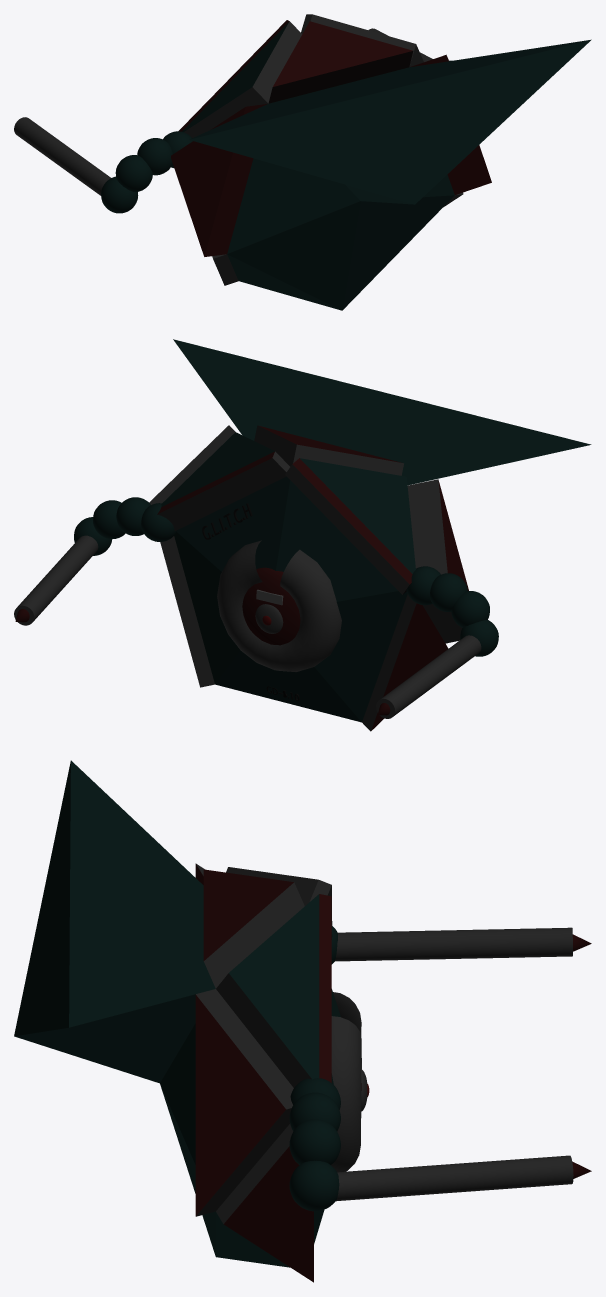
The model's file is EnemyVIPModel.fbx.
The picture shows the model from 3 angles, top to bottom: view 1: azimuth 30°, elevation 25°; view 2: azimuth 150°, elevation 25°; view 3: azimuth 270°, elevation 25°; orthographic projection. The views are drawn at different scales.
Visible parts, largest first — view 1: pTorus2; view 2: pTorus2; view 3: pTorus2.
Part boxes in pixels (left/top/right/bottom): pTorus2: left=14, top=14, right=591, bottom=310; pTorus2: left=14, top=339, right=591, bottom=731; pTorus2: left=14, top=760, right=591, bottom=1282.
Bounding box in the file's own units: 10.42 × 6.62 × 9.31.
